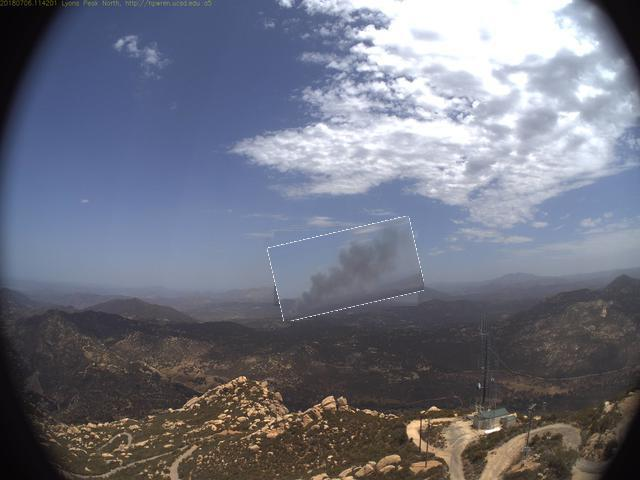smoke: (272, 225, 423, 316)
